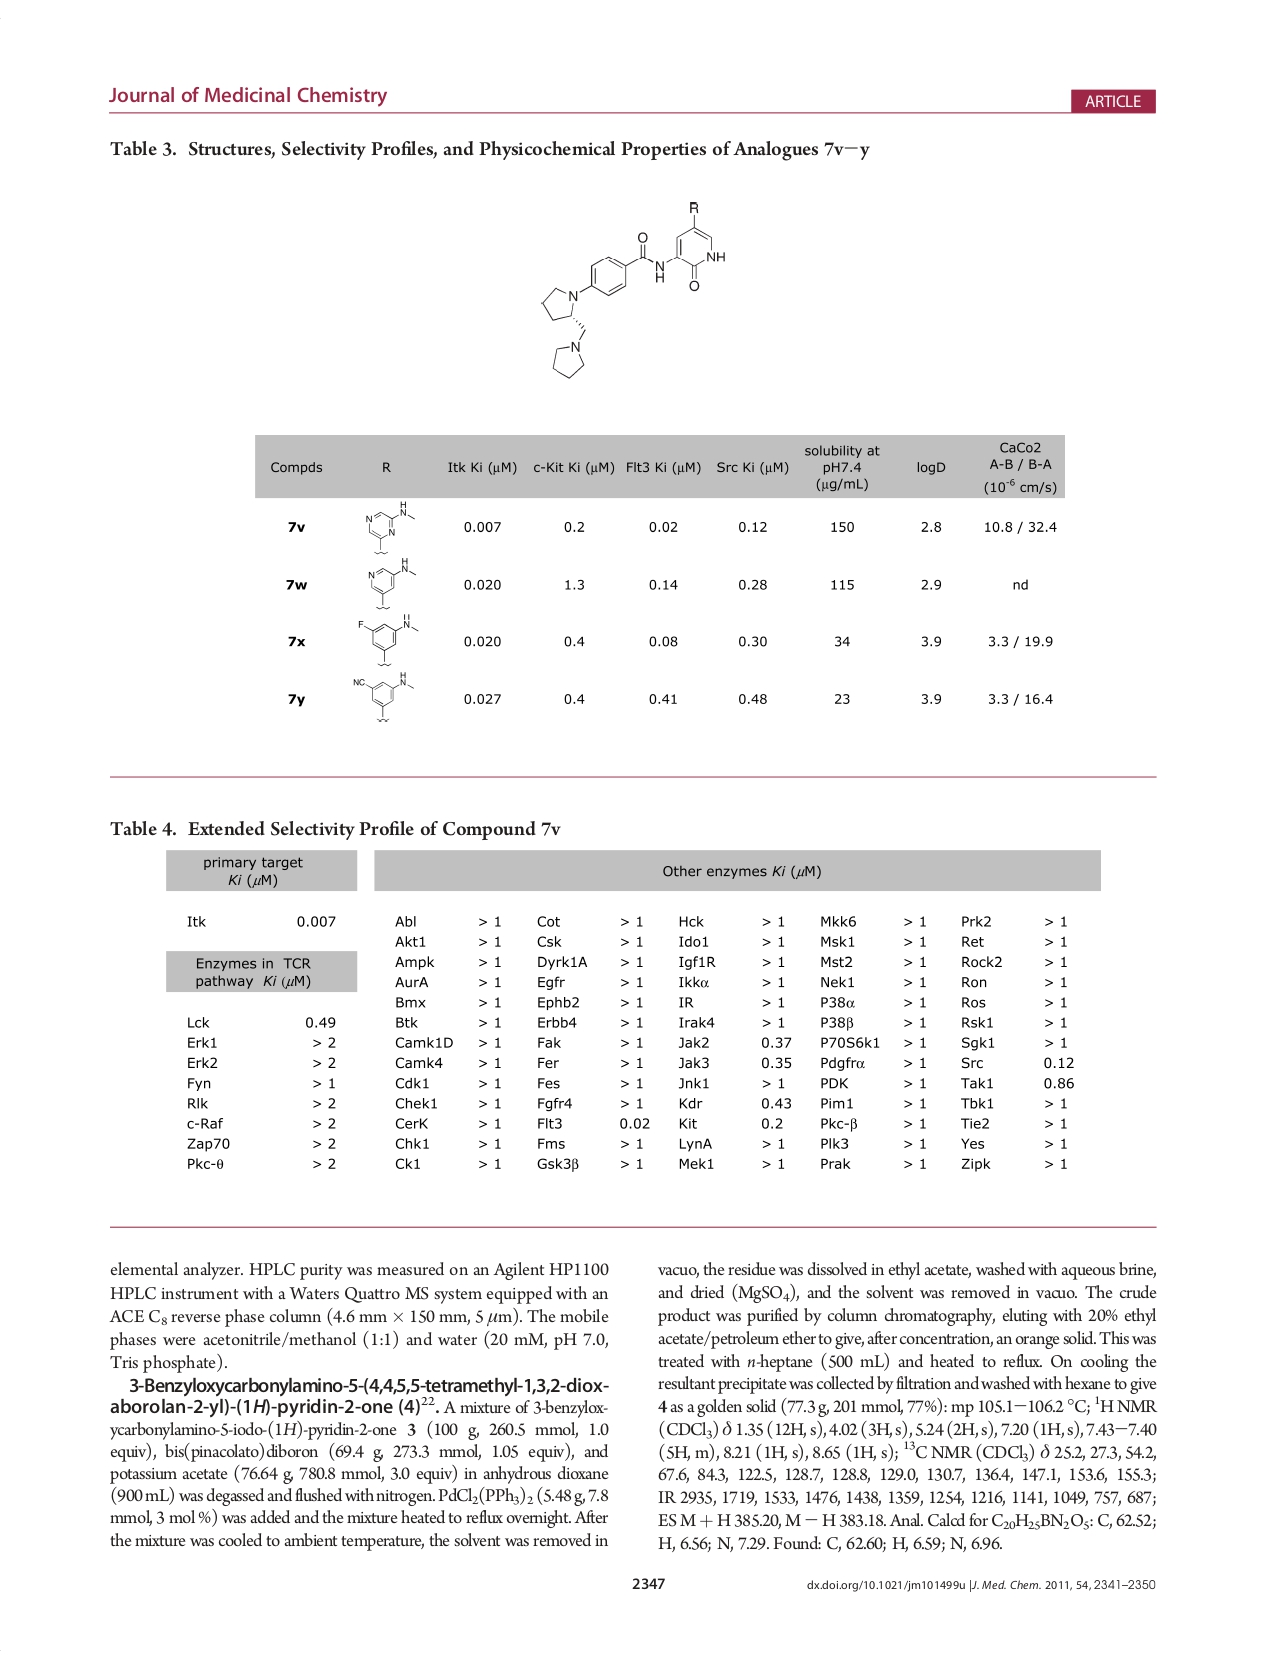exist_molecular: (535, 194, 727, 383), (348, 668, 418, 725), (355, 613, 420, 669), (360, 497, 418, 555), (364, 556, 418, 613)
